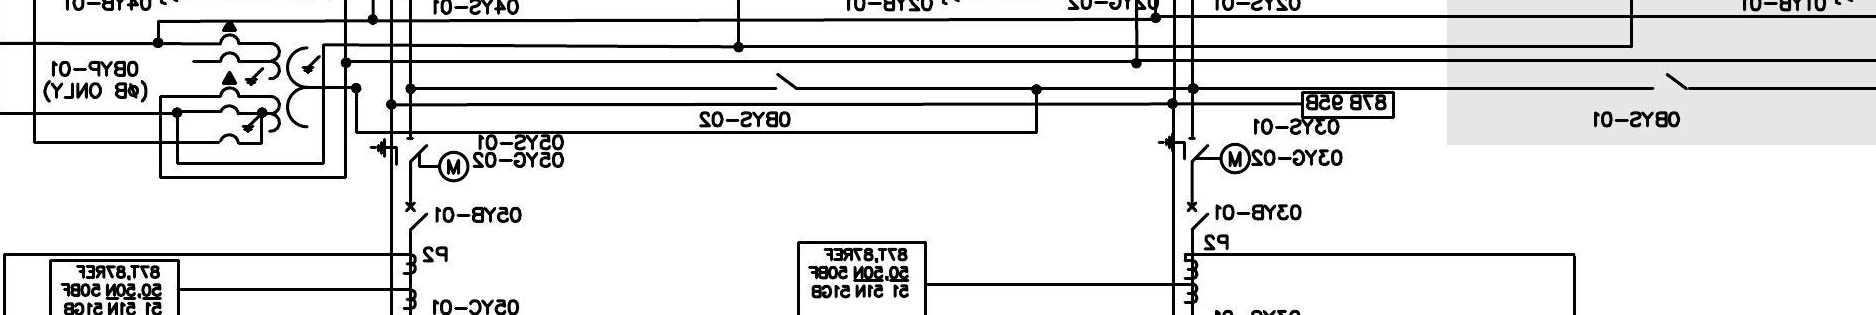115_3ways_ds_w_motor: (368, 137, 470, 183), (1157, 133, 1251, 175)
115_breaker: (1186, 201, 1210, 231), (396, 202, 420, 232)
115_ds: (1651, 72, 1689, 91), (773, 72, 799, 91)
115_vt_1p: (218, 19, 322, 134)
